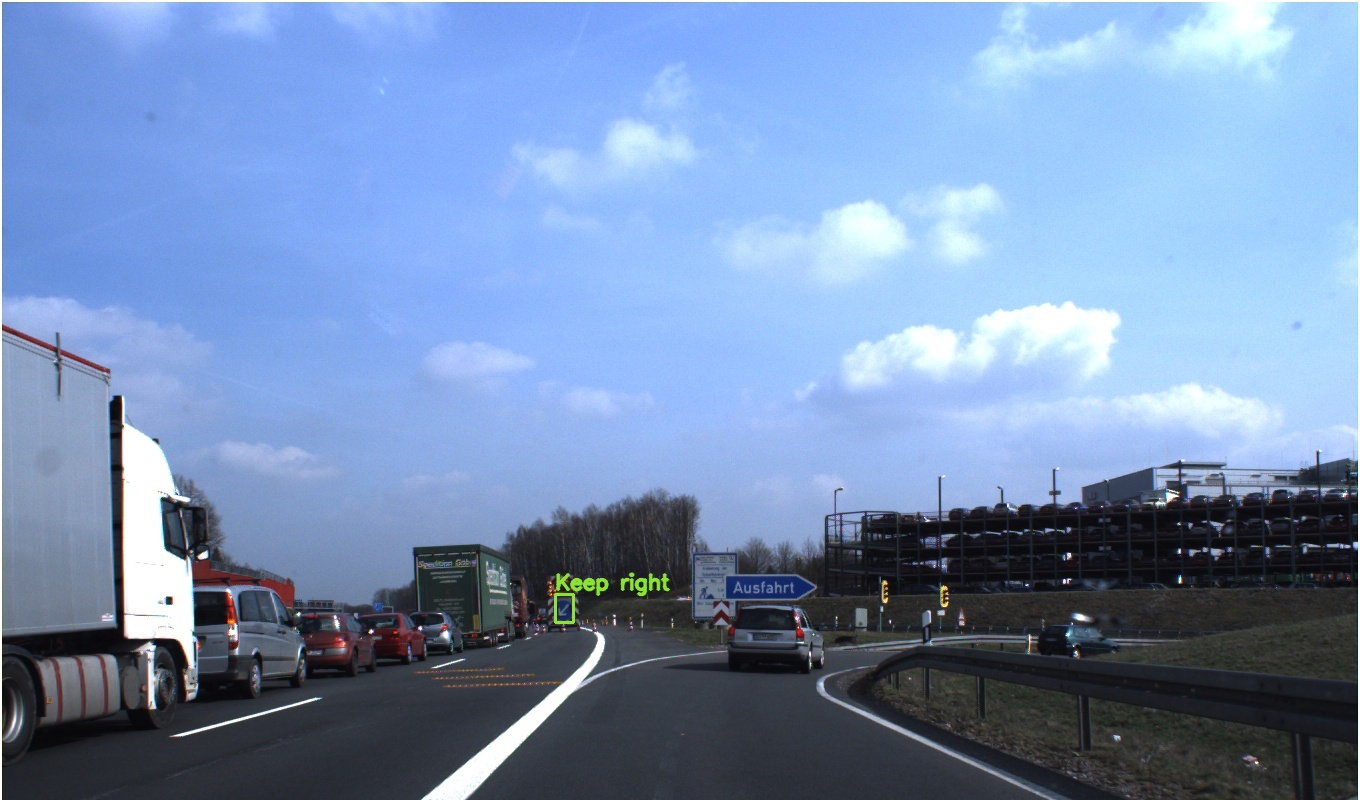Speed limit (50km/h): (1019, 313, 1106, 401)
